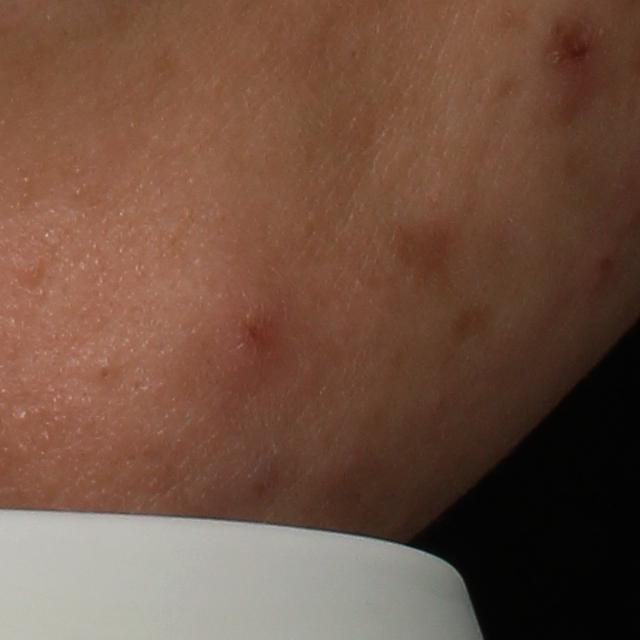comedo: (91, 355, 123, 389), (14, 410, 34, 428)
